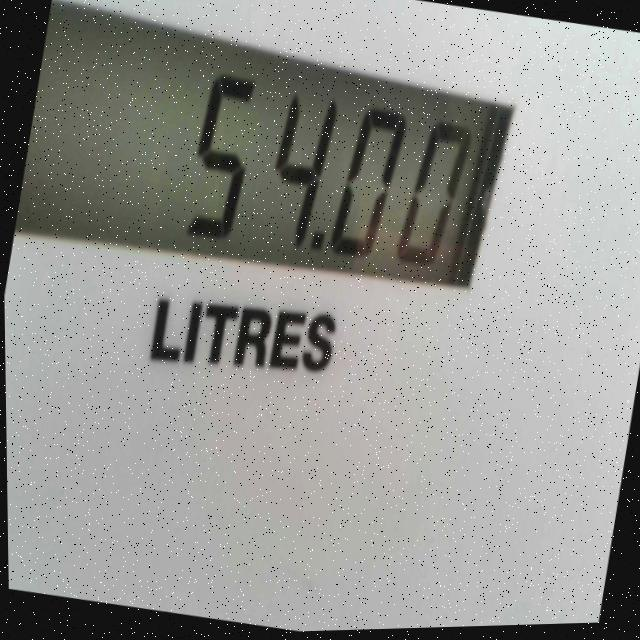.: (304, 214, 336, 269)
0: (317, 96, 416, 278), (387, 116, 482, 280)
4: (253, 79, 343, 263)
5: (157, 57, 275, 259)
